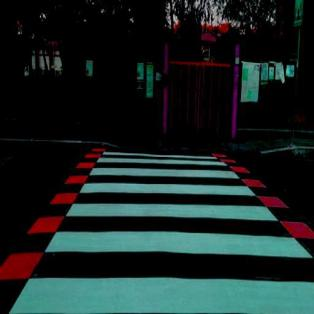Paso de Cebra: (43, 200, 313, 266), (86, 155, 242, 182)
